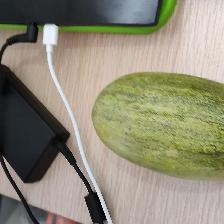gua: (101, 84, 215, 167)
